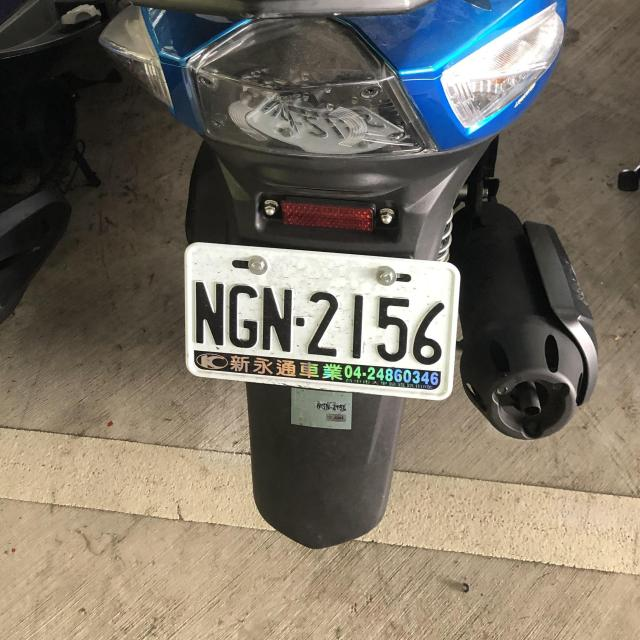W: (176, 242, 462, 393)
